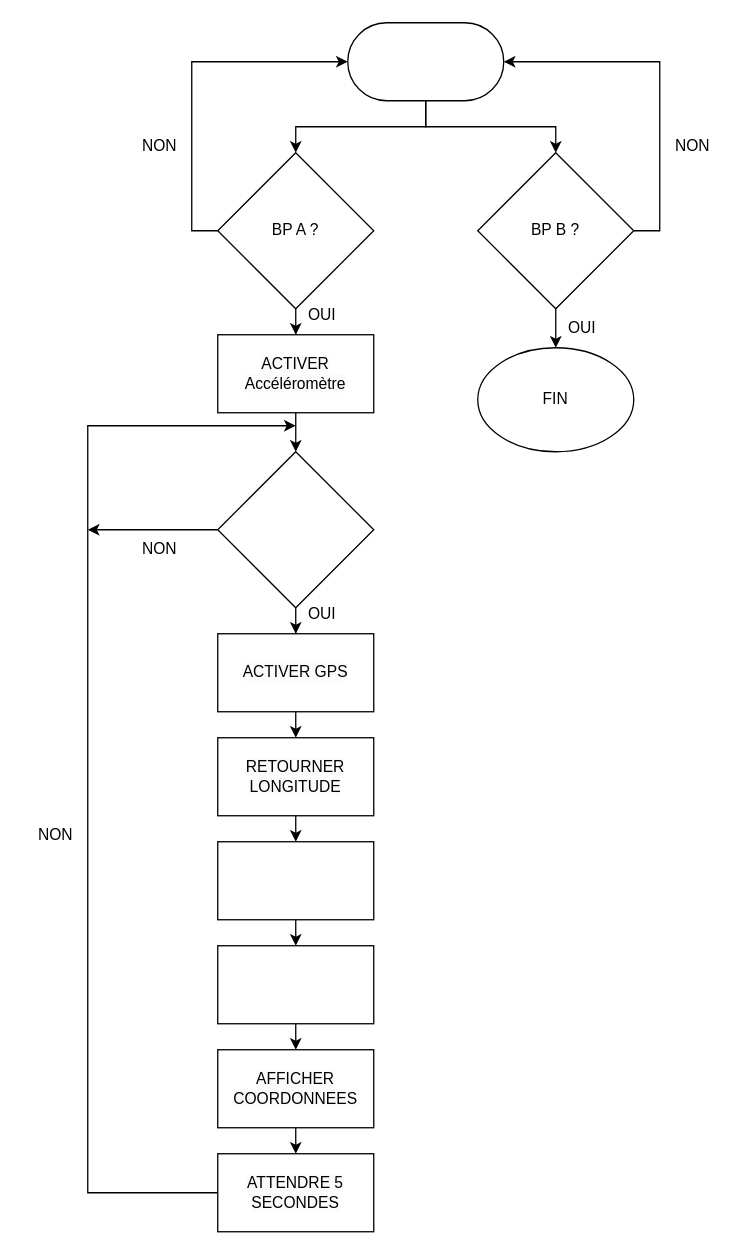
Image size: 746x1255. Some labels were removed from this diagram. Here are the shapes that lost their labels. From the top down, the centre of each, then its label:
At (425,61): "DEBUT".
At (295,529): "MOUVEMENT DETECTE ?".
At (295,880): "RETOURNER LATITUDE".
At (295,984): "RETOUNER ALTITUDE".
